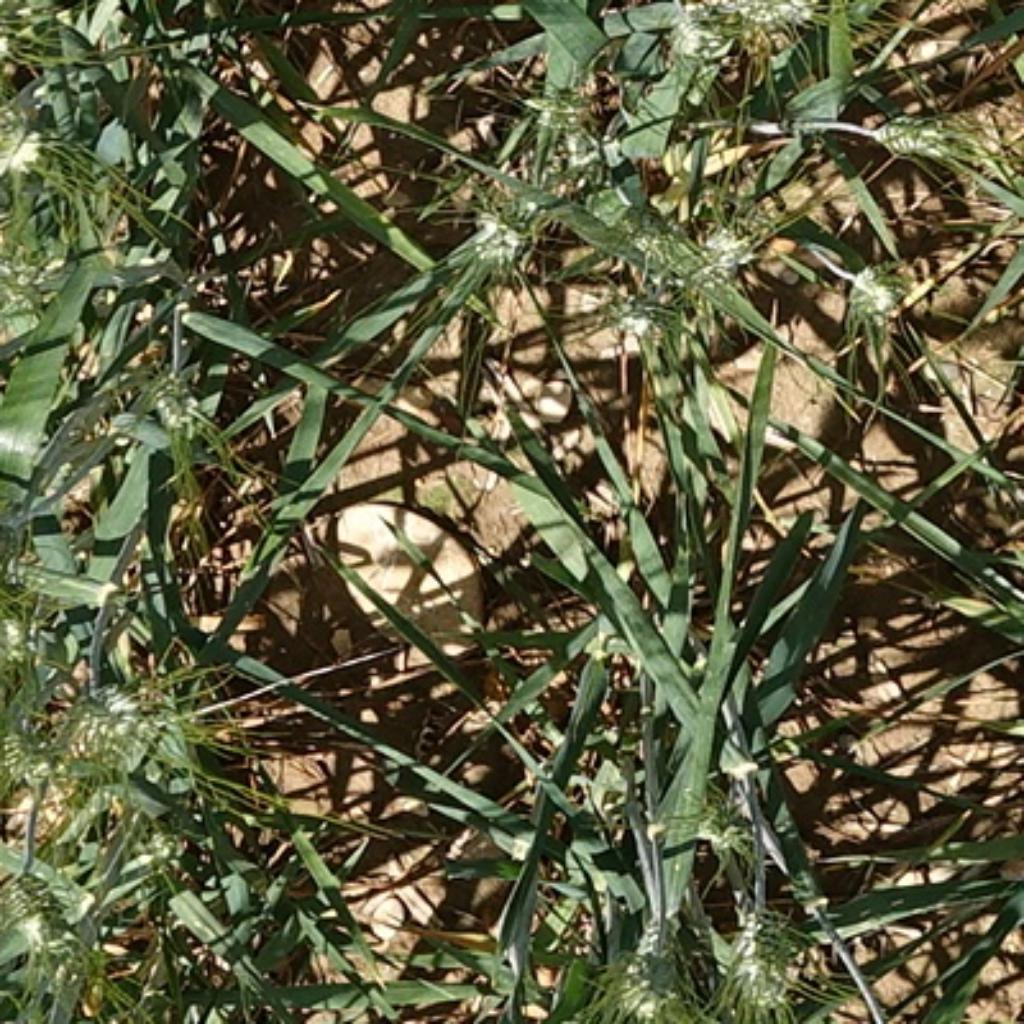0-0: (440, 143, 570, 279), (552, 171, 701, 276), (61, 653, 195, 760), (711, 890, 808, 1011), (607, 901, 709, 1013), (576, 268, 683, 355), (657, 0, 760, 89), (866, 97, 969, 179), (2, 847, 79, 954), (675, 204, 757, 302), (524, 61, 609, 143), (683, 770, 762, 857), (132, 361, 212, 442), (837, 248, 911, 327), (0, 107, 66, 188), (688, 0, 824, 38)
